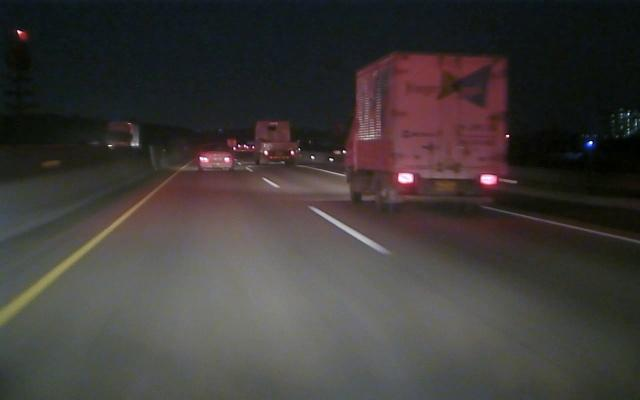lane: (310, 167, 639, 245), (3, 181, 167, 325), (264, 179, 395, 254)
